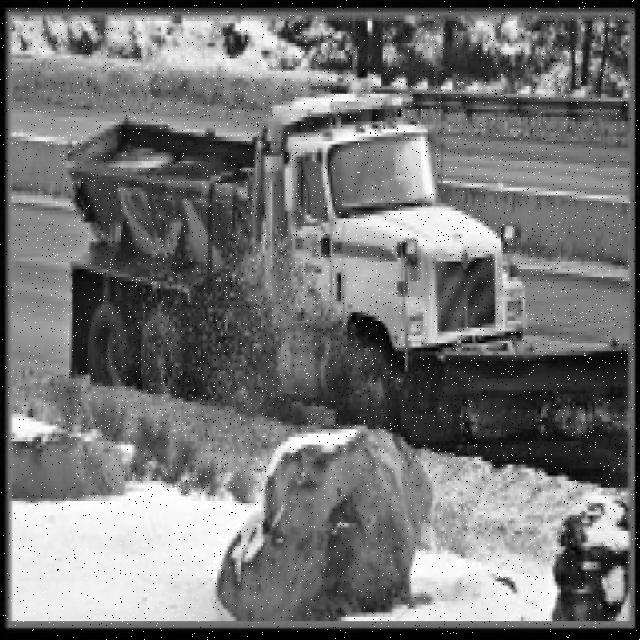Box Truck: (65, 76, 627, 489)
